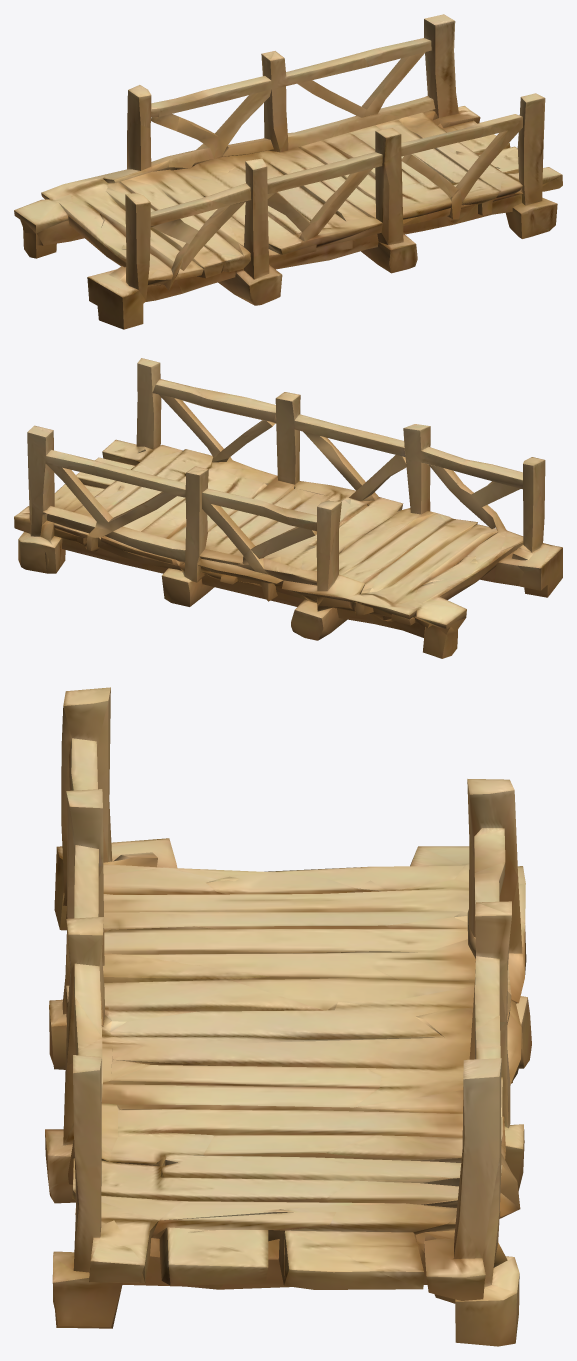
File: plankBridge.glb
3 views of the same model, one above another, from view 1: azimuth 30°, elevation 25°; view 2: azimuth 150°, elevation 25°; view 3: azimuth 270°, elevation 25° (orthographic). The views are drawn at different scales.
Visible parts, largest first — view 1: model; view 2: model; view 3: model.
Boxes of the visible parts, box(x1,y1,x2,y2) form: model: box(14, 14, 562, 329); model: box(14, 358, 562, 658); model: box(45, 687, 531, 1346).
Size of the model in its own units: 1.9 by 0.5484 by 0.8908.
Materials: 1 (1 with a texture image).
